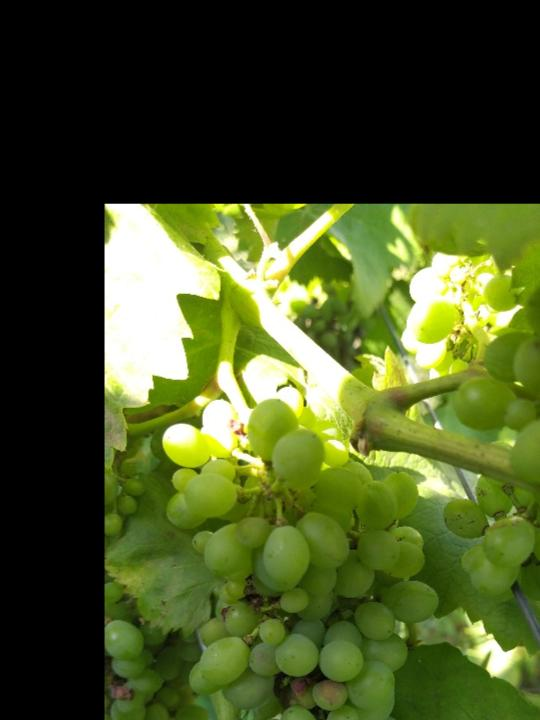grape: (161, 382, 444, 720)
